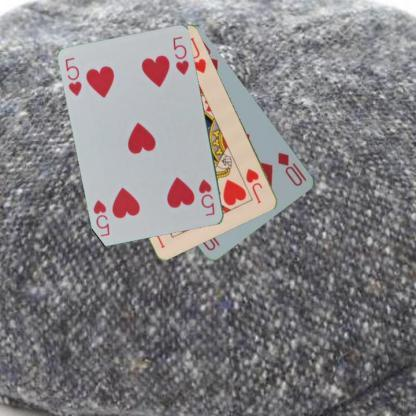10d: (275, 150, 309, 188)
5h: (63, 55, 84, 97), (196, 177, 216, 218)
Jh: (243, 166, 264, 206)
